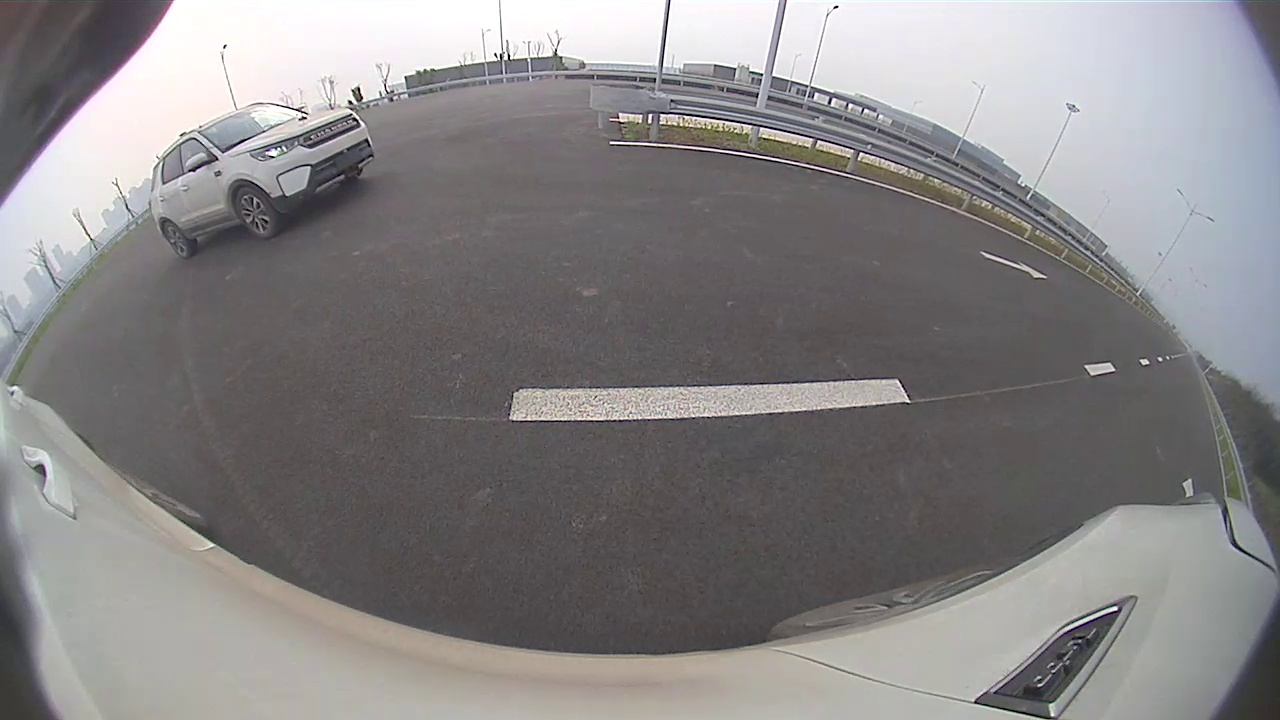car: (150, 102, 374, 259)
front: (232, 186, 279, 240)
rear: (160, 222, 194, 260)
